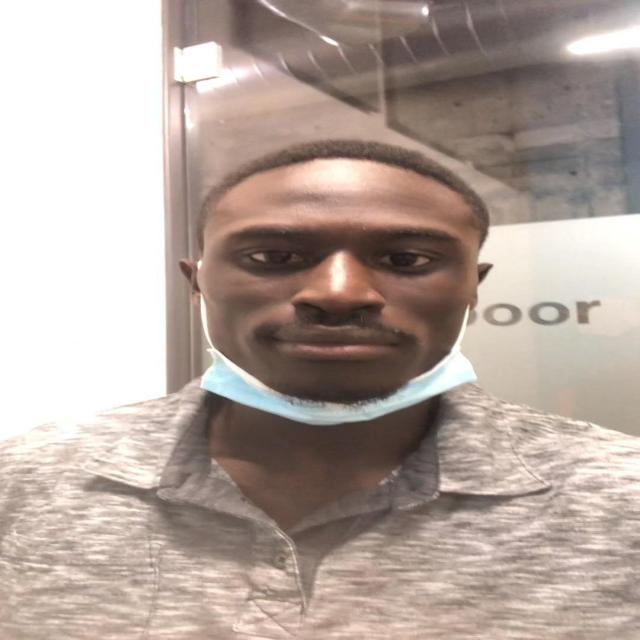face: (192, 149, 488, 399)
